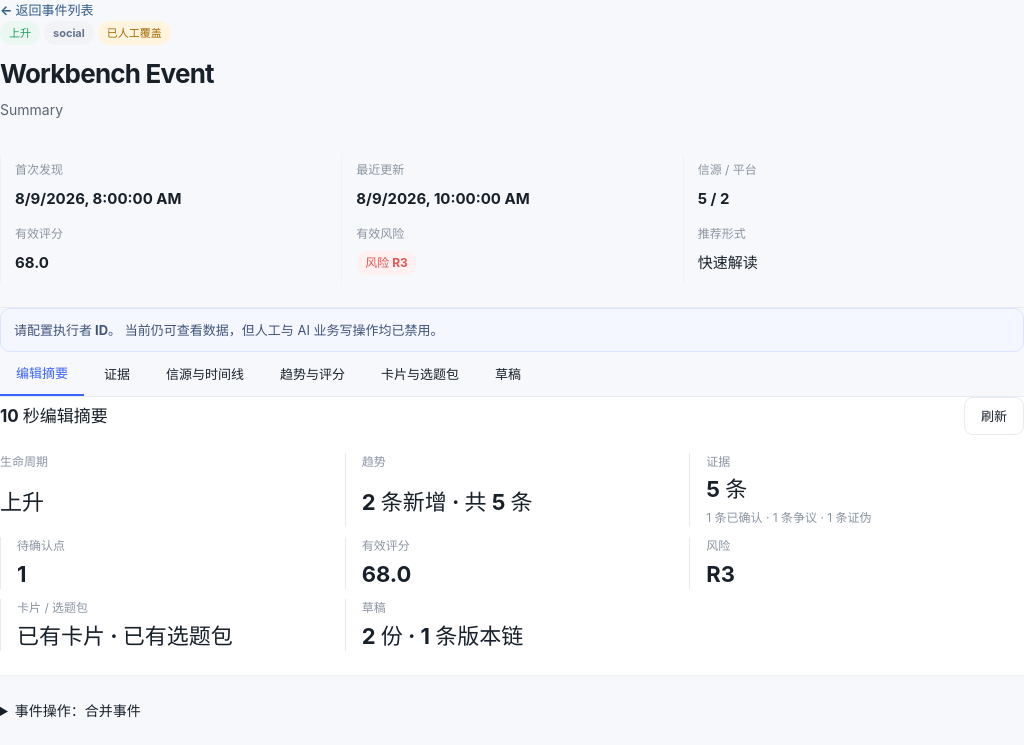
Test: renders evidence, sources, unavailable Trend, effective score, Card/Pack and Draft provenance
This screenshot has width=1024, height=745.
Expected: the heading "Workbench Event" is shown, [0,58,214,89]
Expected: the text "已人工覆盖" is shown, [98,21,171,45]
Click the tab "证据" at (117, 374), box [88,352,146,396]
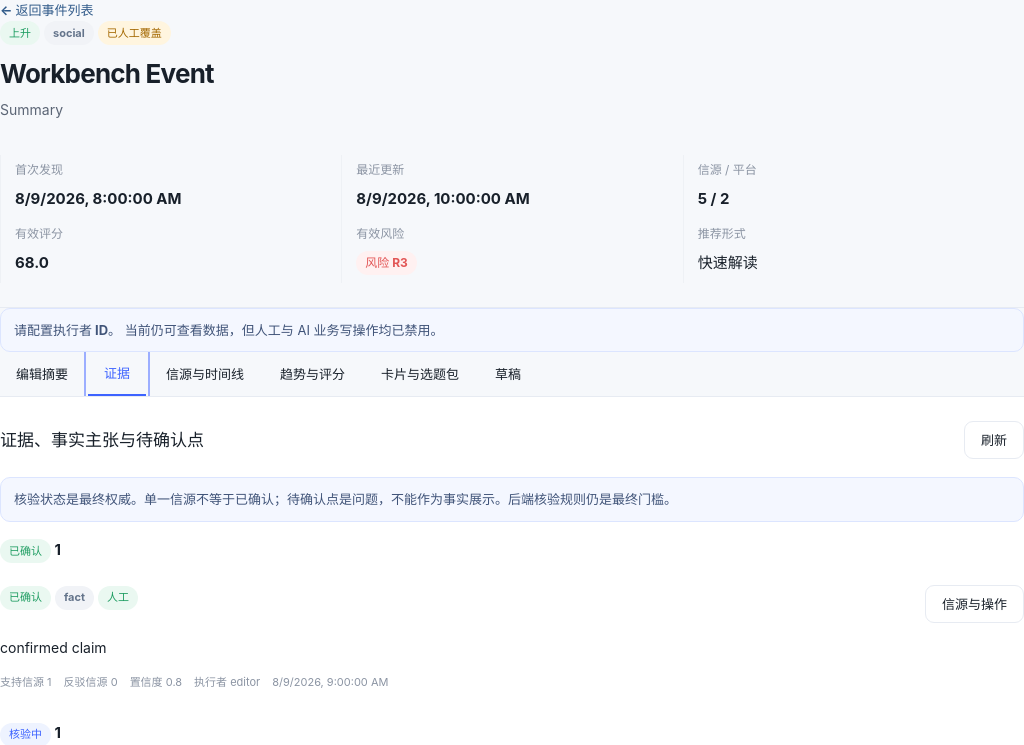
Now the text "confirmed claim" is shown, box [0,639,107,656]
Click the button "信源与操作" at (974, 604), box [925,585,1023,623]
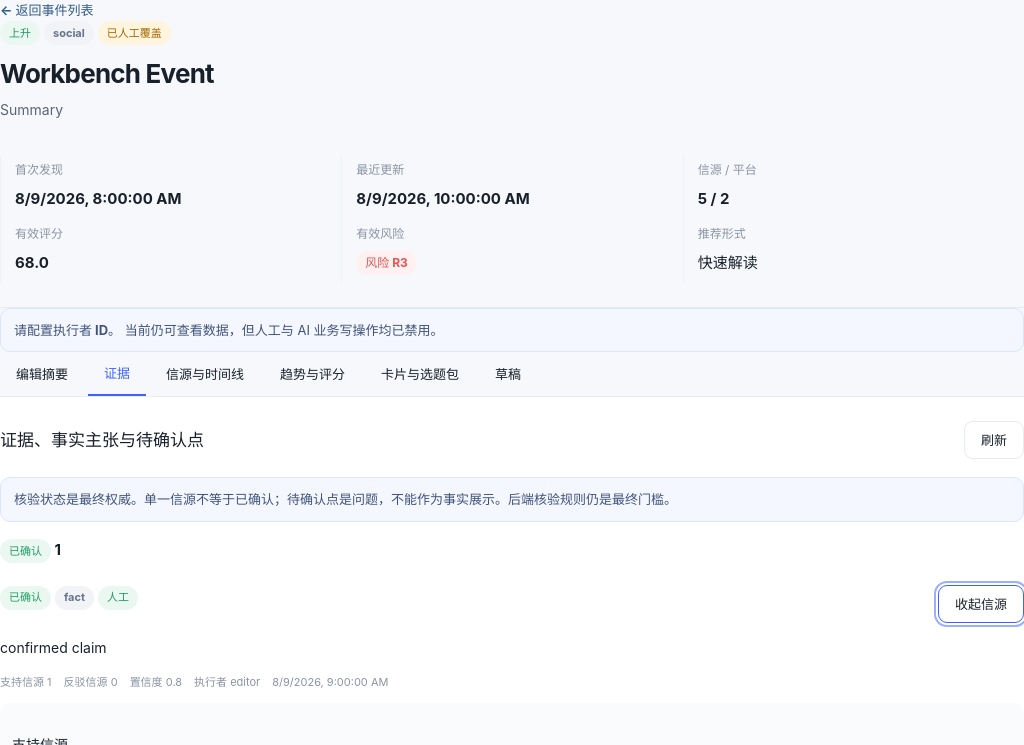
Click the tab "趋势与评分" at (312, 374), box [264,352,361,396]
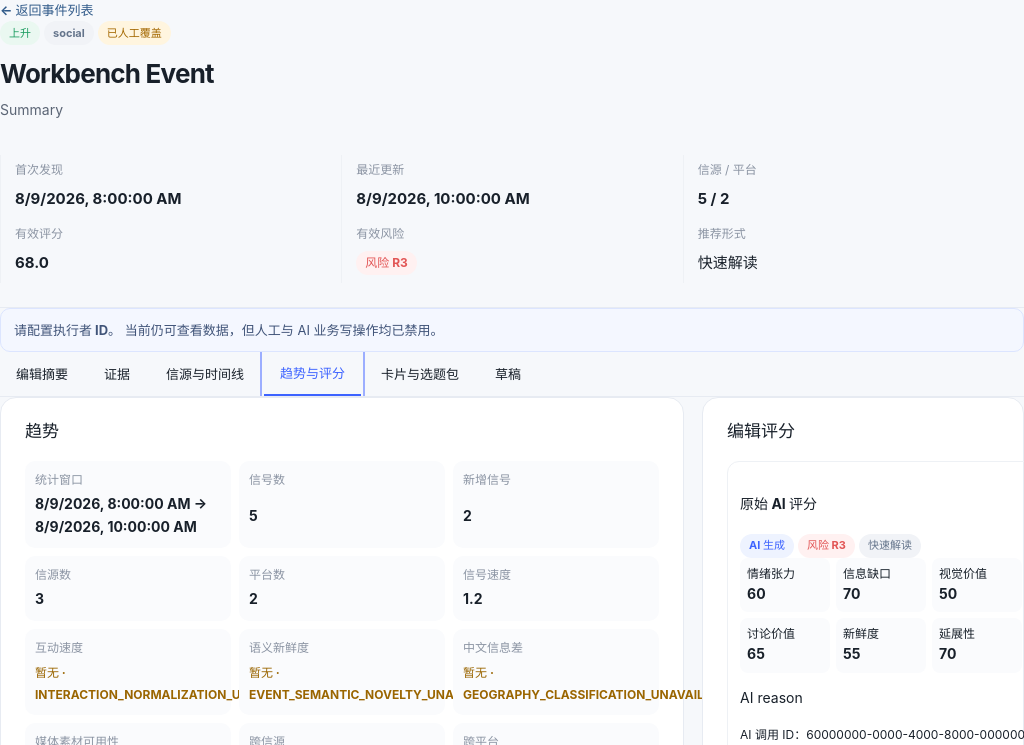
Now the heading "原始 AI 评分" is shown, box [740,495,817,512]
Now the text "暂无 · INTERACTION_NORMALIZATION_UNAVAILABLE" is shown, box [35,664,316,702]
Click the tab "卡片与选题包" at (420, 374), box [365,352,475,396]
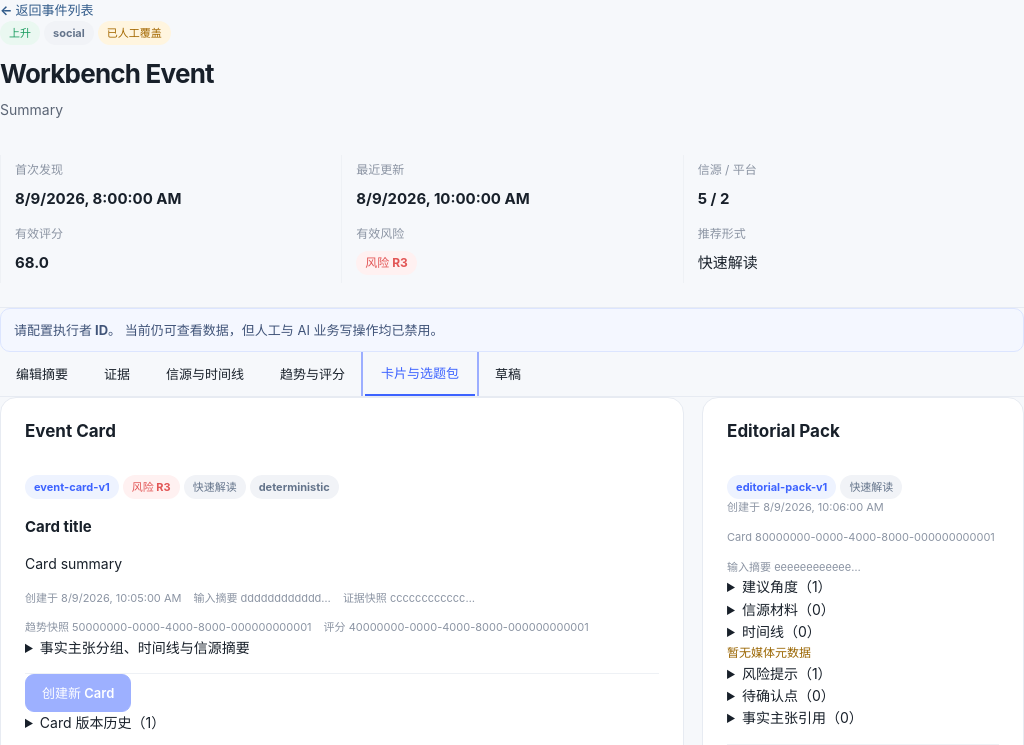
Now the text "暂无媒体元数据" is shown, box [727,645,811,660]
Click the tab "草稿" at (508, 374), box [479,352,537,396]
(page scrolled)
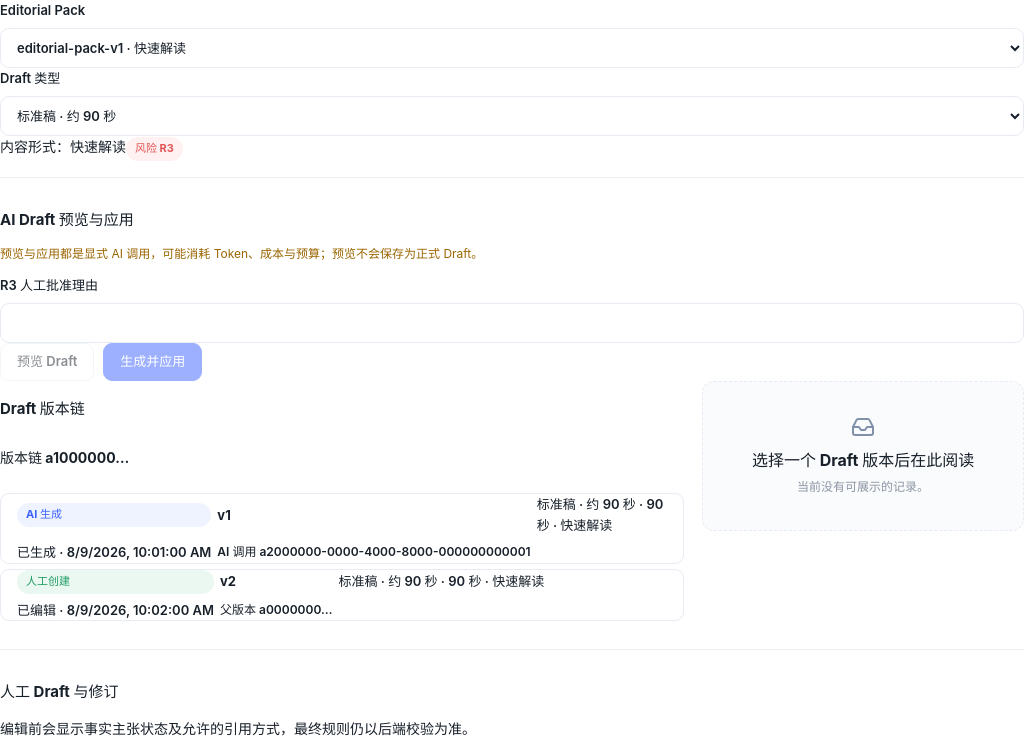
Now the heading "Draft 版本链" is shown, box [0,398,85,418]
Now the text "AI 生成" is shown, box [17,503,211,527]
Now the text "人工创建" is shown, box [17,570,214,594]
